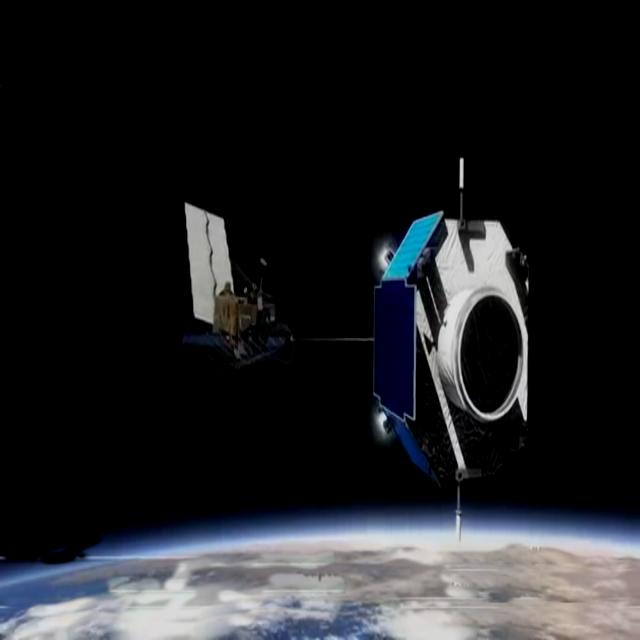satellite: (367, 150, 542, 551), (166, 178, 311, 384)
